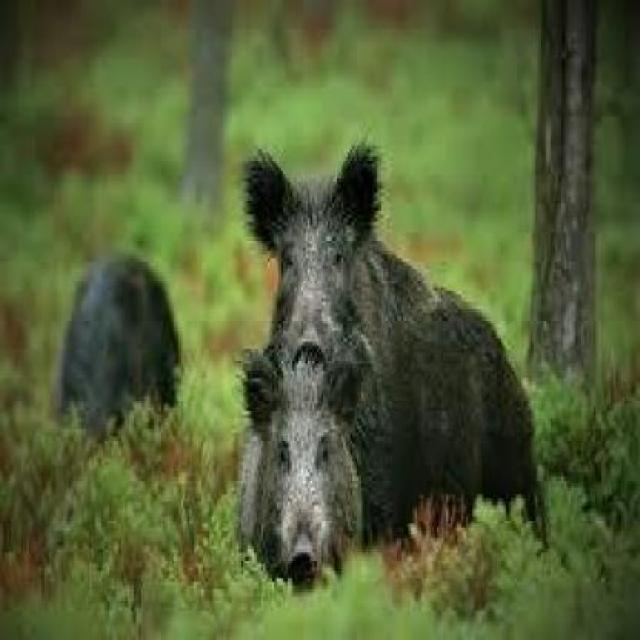wildboar: (227, 134, 553, 584), (233, 334, 373, 611), (48, 248, 188, 480)
